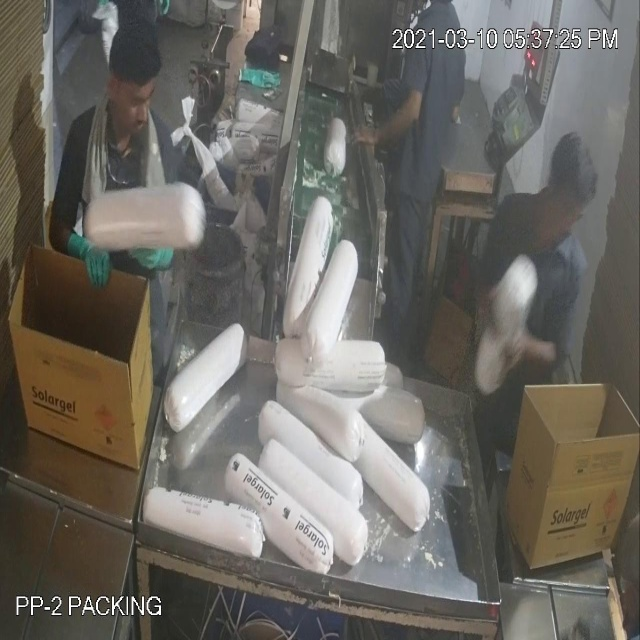Sin_guantes: (352, 90, 431, 171), (498, 306, 564, 395)
